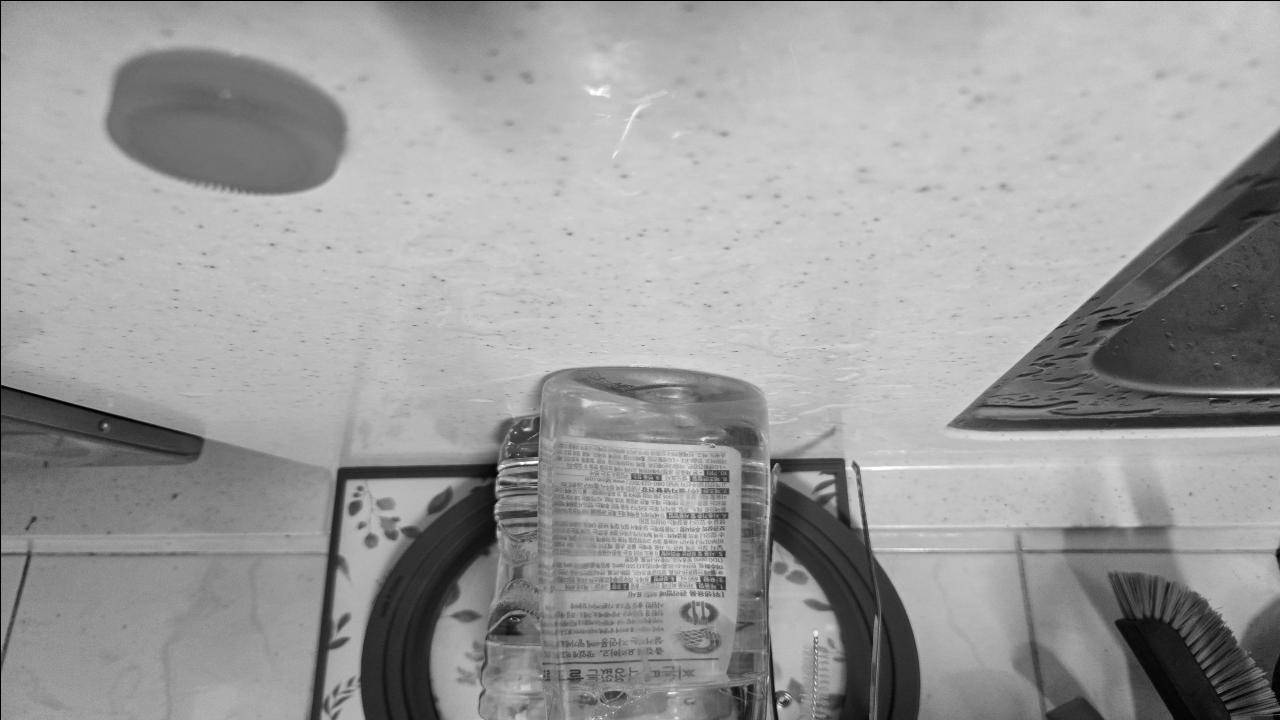bottle_cap: (100, 48, 348, 196)
